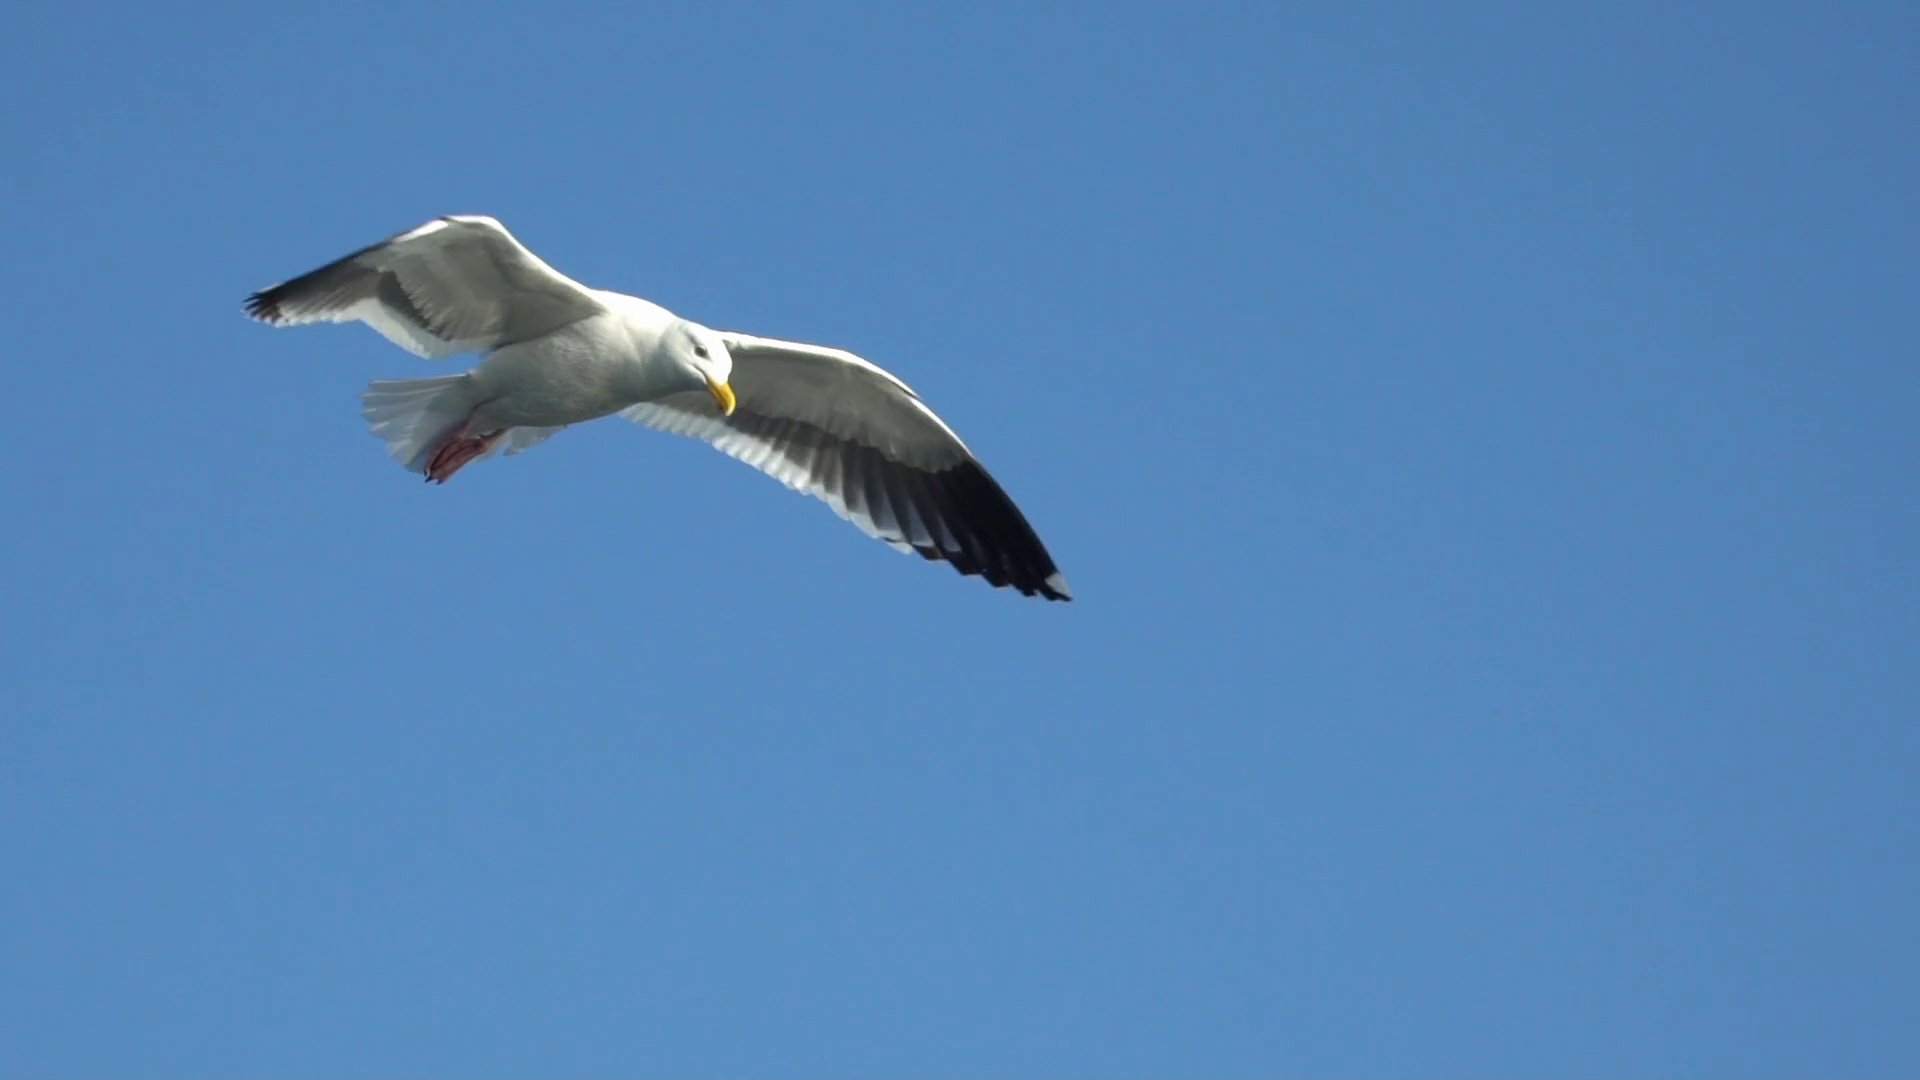bird: (240, 210, 1069, 601)
